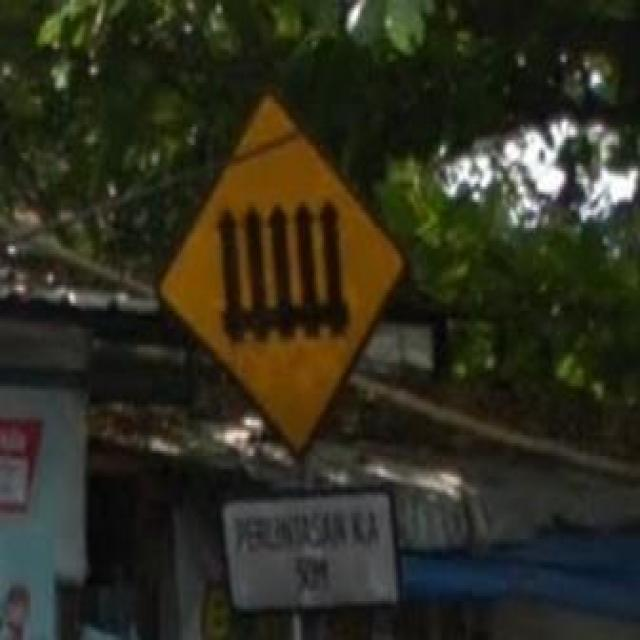traffic sign: (171, 112, 402, 441)
